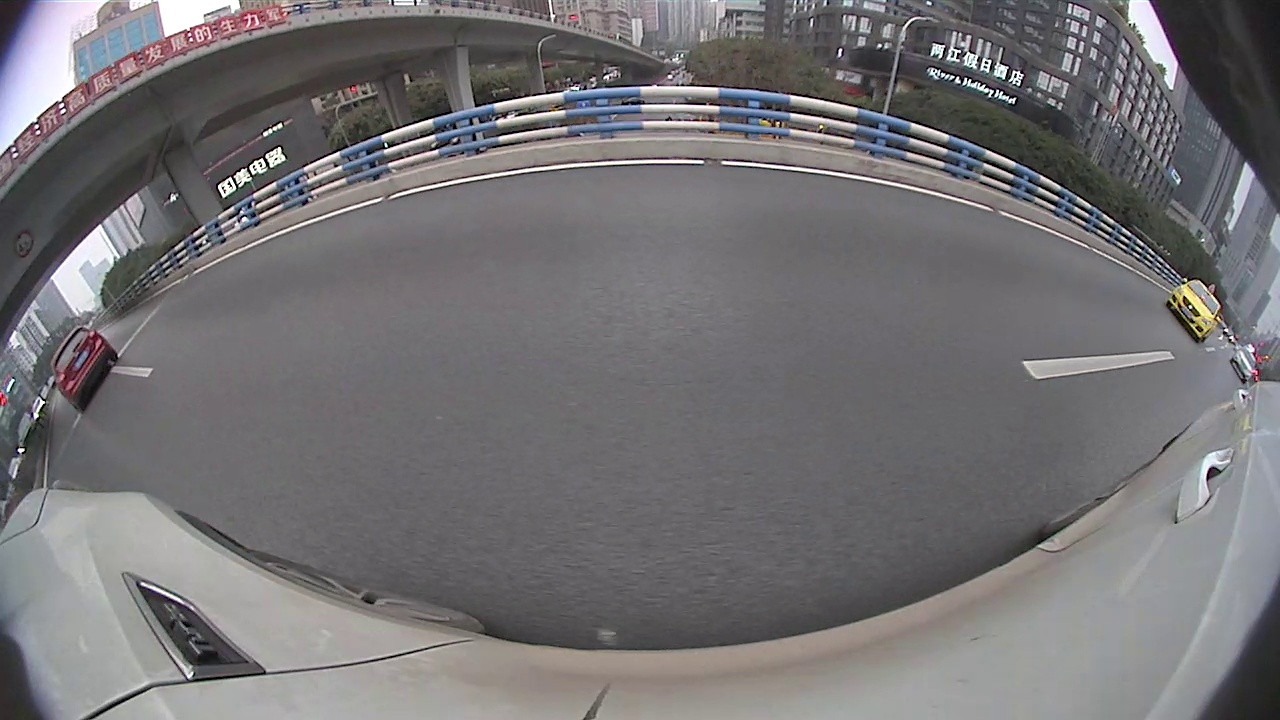car: (50, 327, 119, 414), (1164, 276, 1223, 344)
